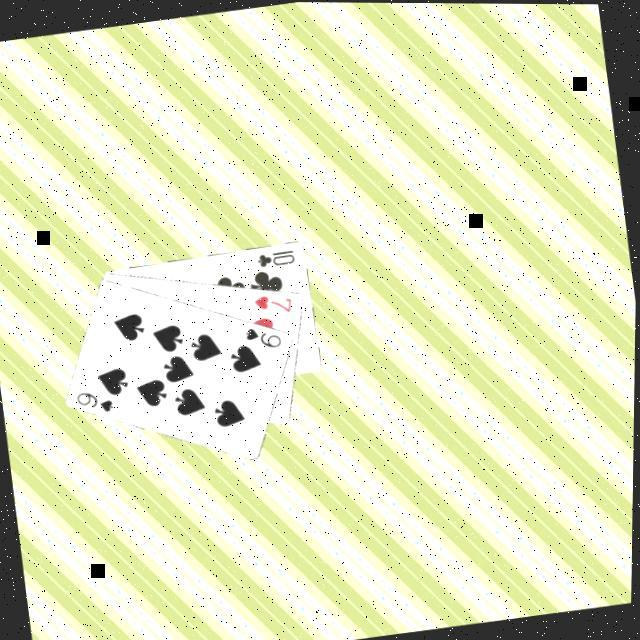10C: (254, 244, 298, 268)
7H: (250, 287, 296, 319)
9S: (73, 384, 117, 418), (242, 320, 286, 352)
